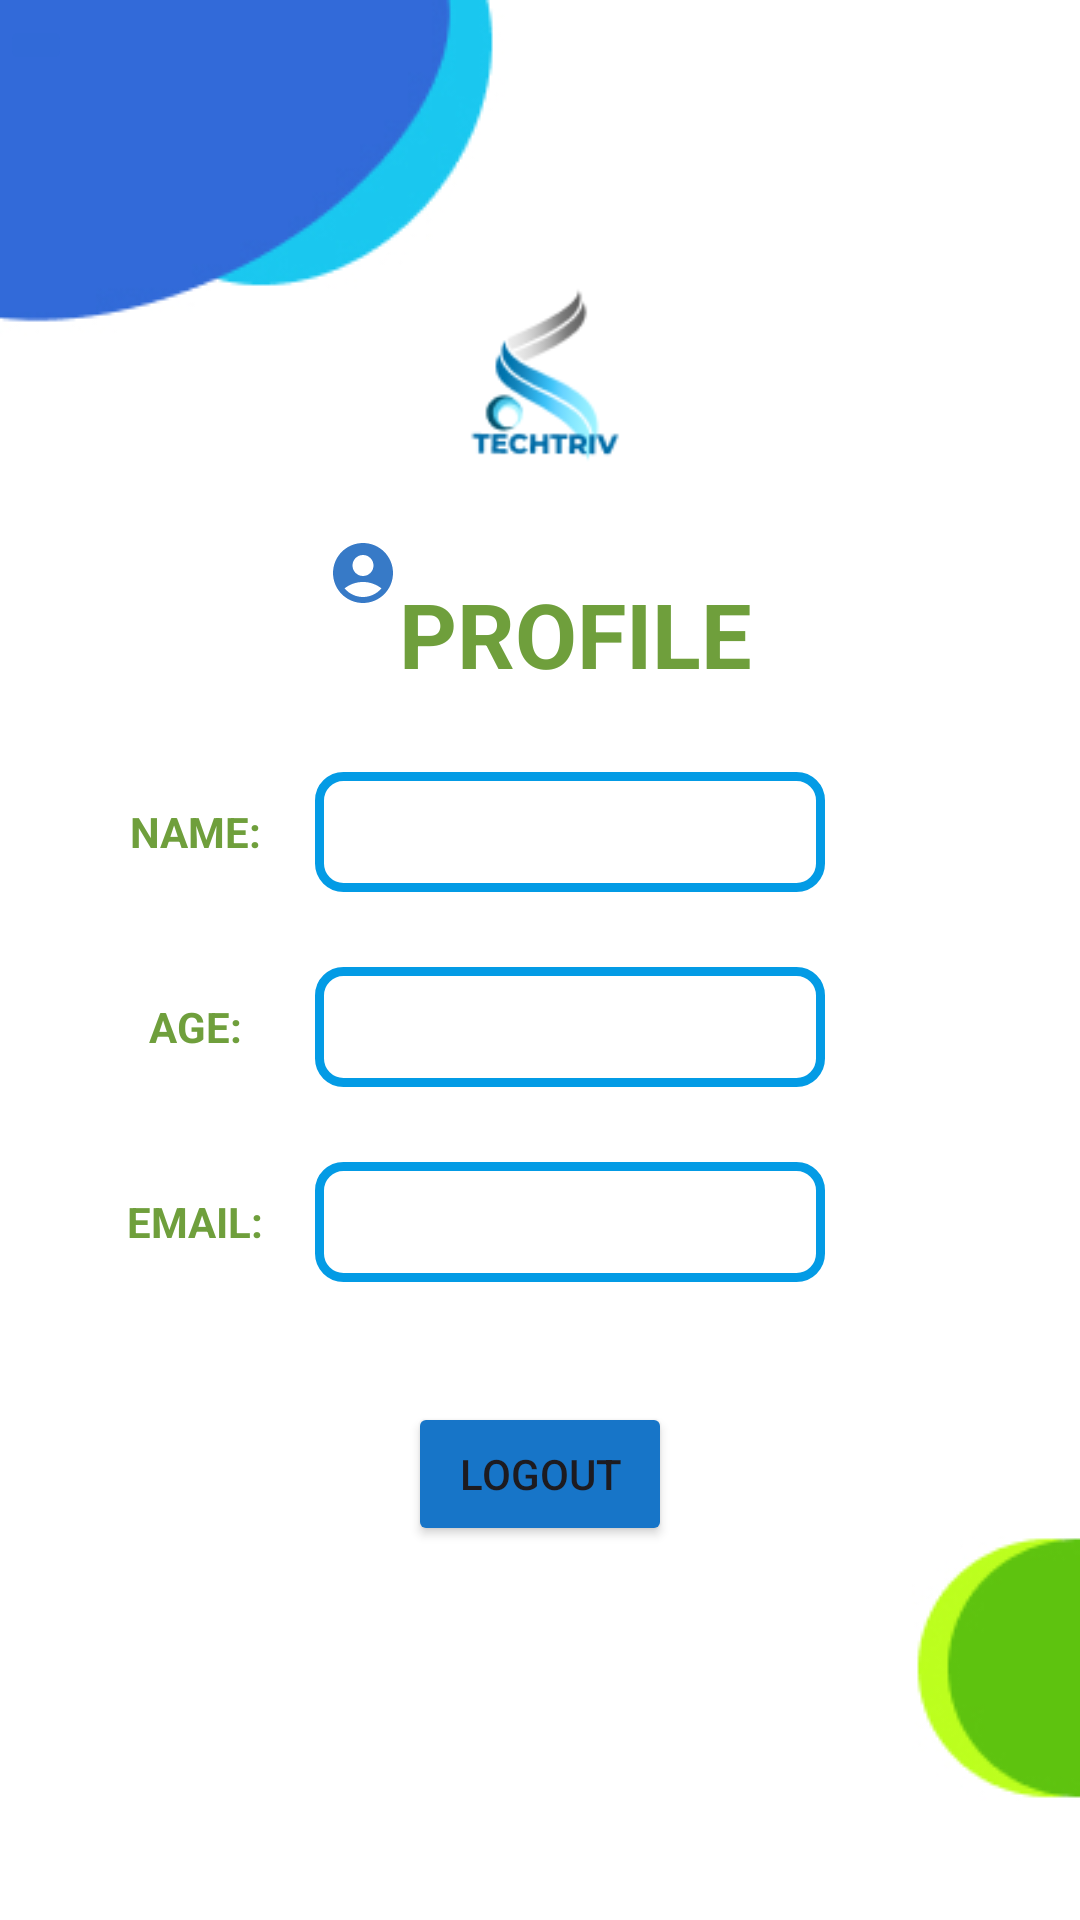

Icons on this 1080px x 1920px Android screen, each with its box as [x1, y1, x2, y2]:
account: [333, 543, 393, 603]
